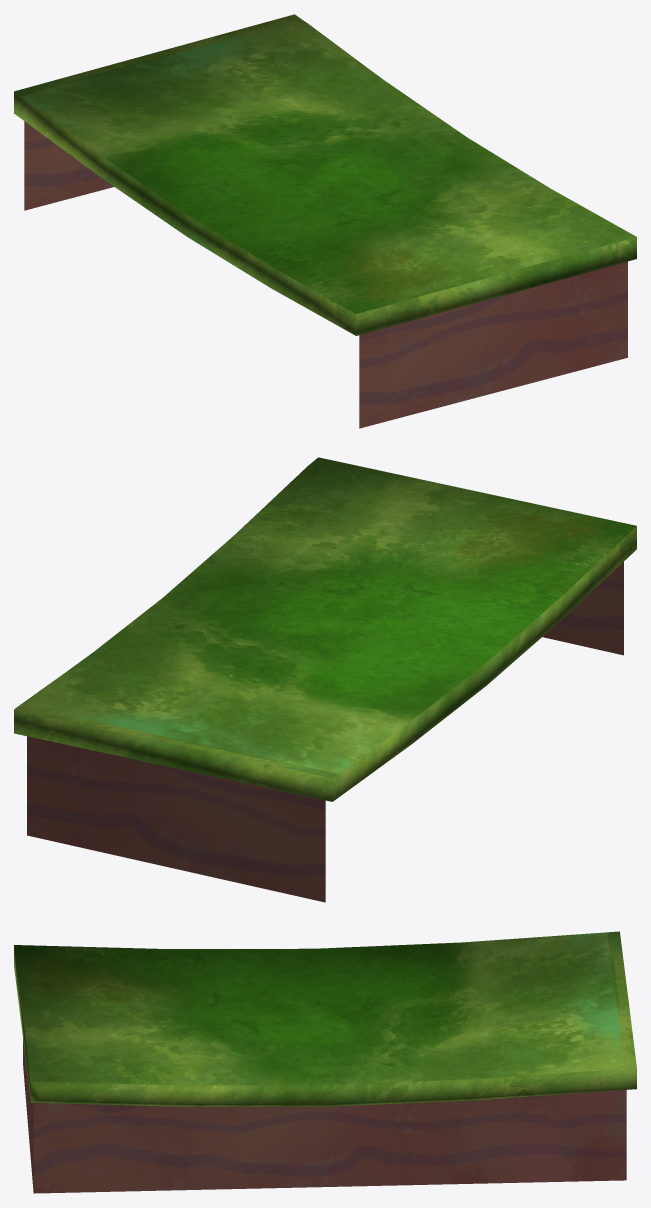
Rendered from Morro.fbx.
3 views of the same model, one above another, from view 1: azimuth 30°, elevation 25°; view 2: azimuth 150°, elevation 25°; view 3: azimuth 270°, elevation 25° (orthographic). The views are drawn at different scales.
Visible parts, largest first — view 1: Parede.004; view 2: Parede.004; view 3: Parede.004.
Boxes of the visible parts, <box> form: Parede.004: <box>14,14,636,428</box>; Parede.004: <box>14,457,636,902</box>; Parede.004: <box>14,931,636,1193</box>.
Bounding box in the file's own units: 1099 × 1903 × 390.
